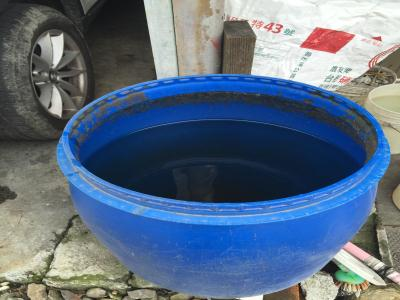bucket: (51, 71, 400, 299)
